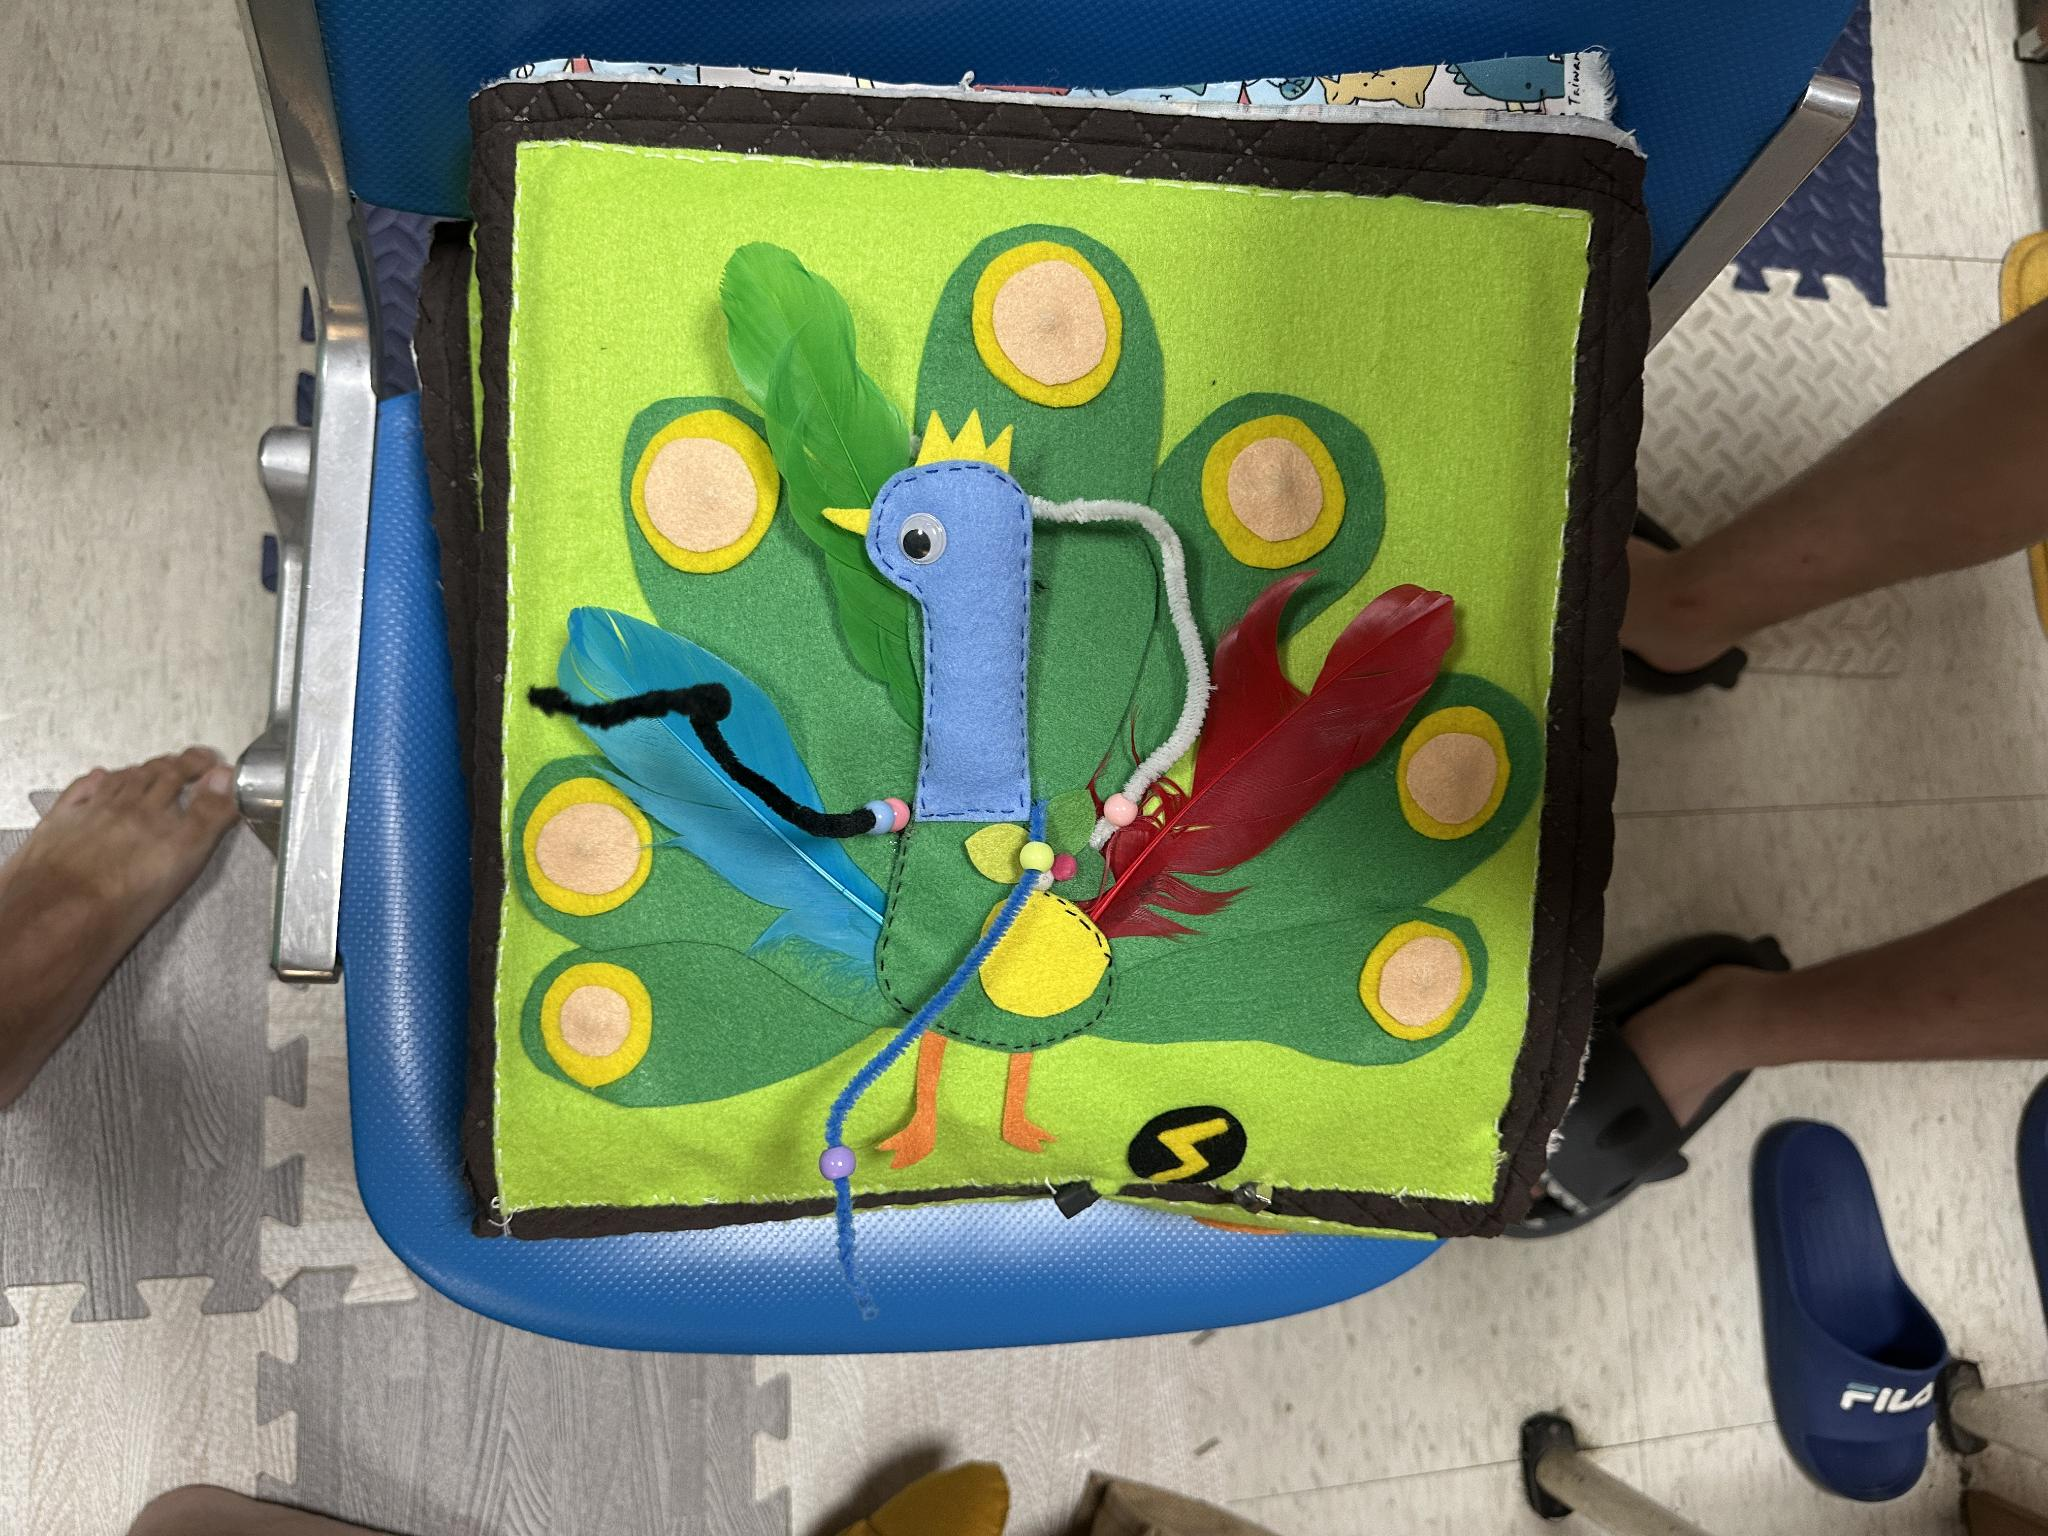bead: (811, 1131, 872, 1192), (1097, 784, 1145, 833), (1018, 833, 1058, 878), (861, 797, 892, 837), (892, 791, 916, 836)
